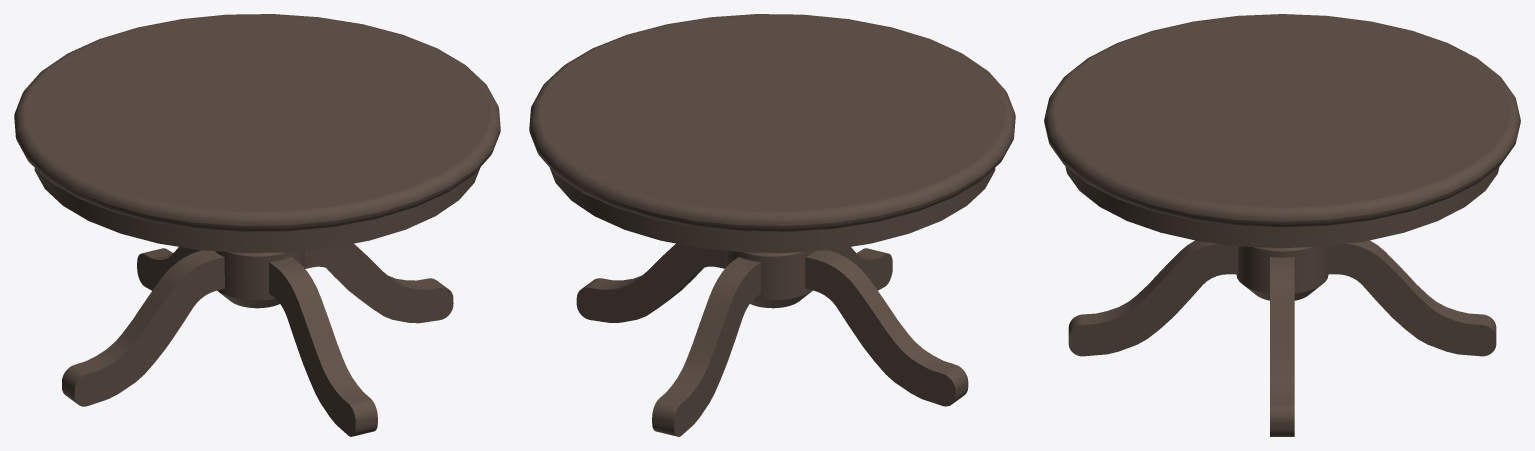
File: TableRonde_25.fbx
3 views of the same model, side by side, from view 1: azimuth 30°, elevation 25°; view 2: azimuth 150°, elevation 25°; view 3: azimuth 270°, elevation 25° (orthographic). The views are drawn at different scales.
Parts seen in each view (by area): view 1: pCylinder13, pCube17, pCube18, pCube19, pCube16; view 2: pCylinder13, pCube17, pCube16, pCube19, pCube18; view 3: pCylinder13, pCube16, pCube18, pCube19.
Boxes of the visible parts, x1=… form: pCylinder13: x1=14, y1=14, x2=500, y2=308; pCube17: x1=62, y1=250, x2=224, y2=406; pCube18: x1=269, y1=257, x2=377, y2=436; pCube19: x1=304, y1=243, x2=453, y2=323; pCube16: x1=137, y1=247, x2=200, y2=290; pCylinder13: x1=529, y1=14, x2=1015, y2=308; pCube17: x1=805, y1=250, x2=968, y2=406; pCube16: x1=652, y1=257, x2=760, y2=436; pCube19: x1=576, y1=243, x2=725, y2=322; pCube18: x1=829, y1=247, x2=892, y2=290; pCylinder13: x1=1044, y1=14, x2=1520, y2=300; pCube16: x1=1326, y1=240, x2=1496, y2=356; pCube18: x1=1068, y1=240, x2=1238, y2=356; pCube19: x1=1270, y1=257, x2=1294, y2=436.
Bounding box in the file's own units: 50.5 × 28.04 × 50.5.
